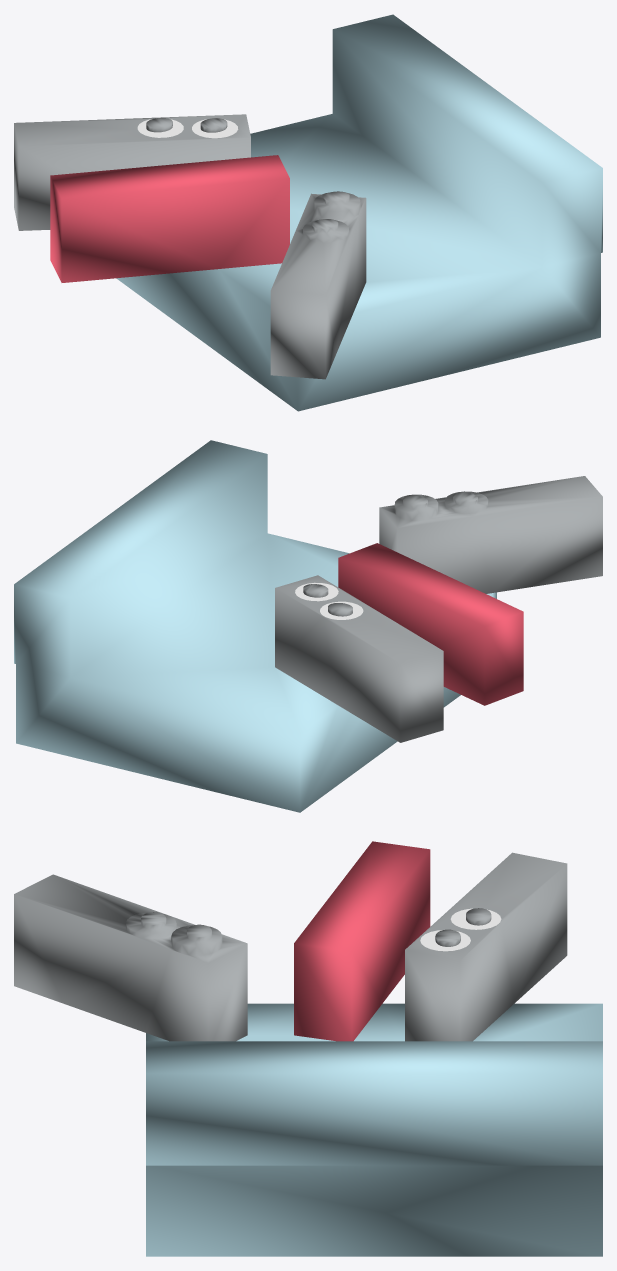
Rendered from StaticsPrototypeb.glb.
The picture shows the model from 3 angles, top to bottom: view 1: azimuth 30°, elevation 25°; view 2: azimuth 150°, elevation 25°; view 3: azimuth 270°, elevation 25°; orthographic projection. The views are drawn at different scales.
Visible parts, largest first — view 1: group_0_8768998, group_0_6383466, group_0_15277357, group_0_16448250; view 2: group_0_8768998, group_0_6383466, group_0_15277357, group_0_16448250; view 3: group_0_8768998, group_0_6383466, group_0_15277357, group_0_16448250.
Boxes of the visible parts, box(x1,y1,x2,y2) form: group_0_8768998: box(116, 14, 602, 411); group_0_6383466: box(14, 114, 366, 379); group_0_15277357: box(50, 155, 289, 282); group_0_16448250: box(137, 119, 238, 138); group_0_8768998: box(14, 440, 496, 812); group_0_6383466: box(275, 476, 602, 742); group_0_15277357: box(338, 543, 523, 705); group_0_16448250: box(295, 582, 363, 619); group_0_8768998: box(146, 1003, 602, 1256); group_0_6383466: box(14, 852, 567, 1041); group_0_15277357: box(294, 841, 430, 1041); group_0_16448250: box(420, 908, 501, 951).
Size of the model in its own units: 10.83 by 4.3 by 11.6.
